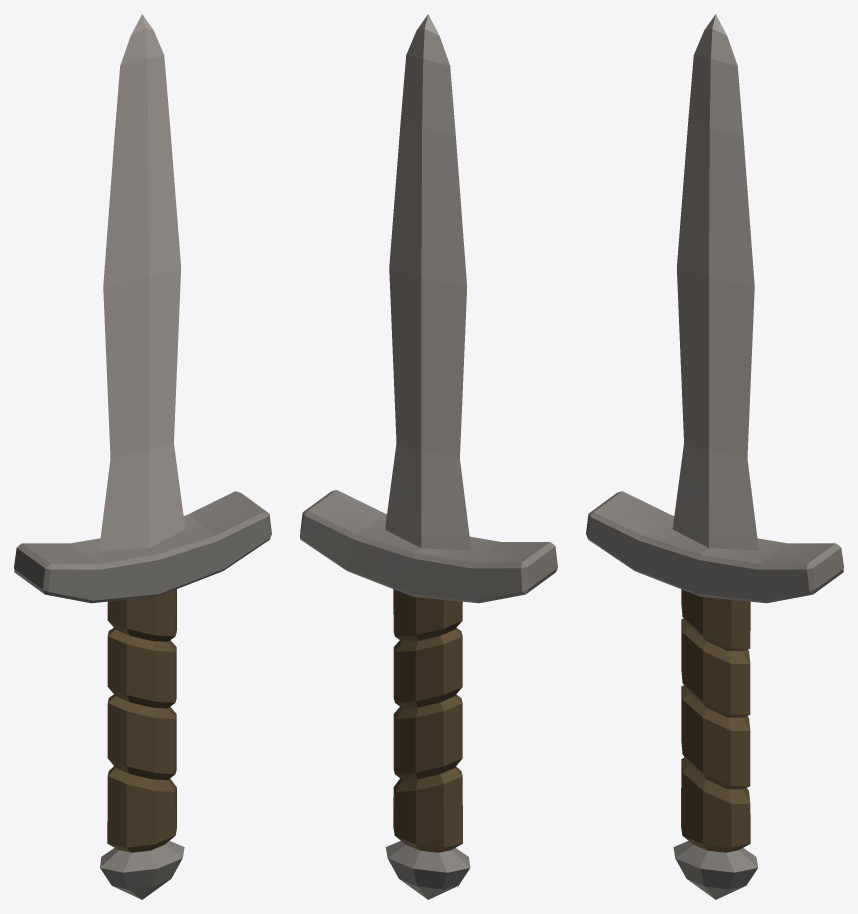
File: SM_pwe_medieval_dagger_03.fbx
3 renders of one model, left to right at view 1: azimuth 30°, elevation 25°; view 2: azimuth 150°, elevation 25°; view 3: azimuth 330°, elevation 25°, orthographic.
Visible parts, largest first — view 1: SM_pwe_medieval_dagger_03; view 2: SM_pwe_medieval_dagger_03; view 3: SM_pwe_medieval_dagger_03.
Part boxes in pixels (x1,y1,x2,y2): SM_pwe_medieval_dagger_03: [14, 14, 271, 899]; SM_pwe_medieval_dagger_03: [300, 14, 557, 899]; SM_pwe_medieval_dagger_03: [586, 14, 843, 899].
Bounding box in the file's own units: 14.51 × 53.58 × 3.76.
